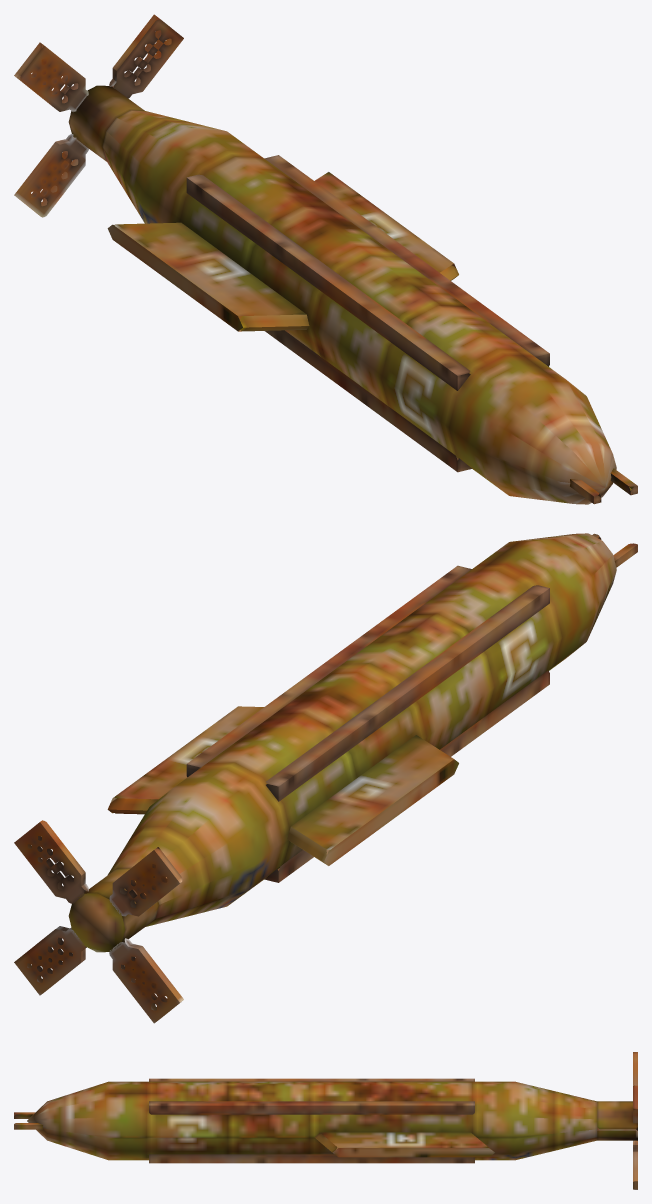
The model's file is dud_fugas_tong.obj.
3 renders of one model, top to bottom at view 1: azimuth 30°, elevation 25°; view 2: azimuth 150°, elevation 25°; view 3: azimuth 270°, elevation 25°, orthographic. The views are drawn at different scales.
Visible parts, largest first — view 1: Cube.003_Cube.005; view 2: Cube.003_Cube.005; view 3: Cube.003_Cube.005.
Boxes of the visible parts, x1=… form: Cube.003_Cube.005: x1=14, y1=14, x2=637, y2=504; Cube.003_Cube.005: x1=14, y1=533, x2=637, y2=1023; Cube.003_Cube.005: x1=14, y1=1052, x2=637, y2=1189.
Size of the model in its own units: 1.84 by 1.41 by 7.66.
